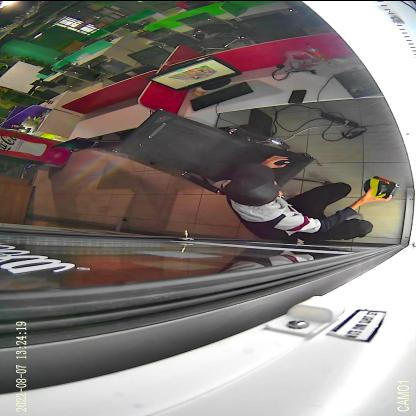red: (372, 176, 400, 198)
yellow: (363, 176, 390, 197)
